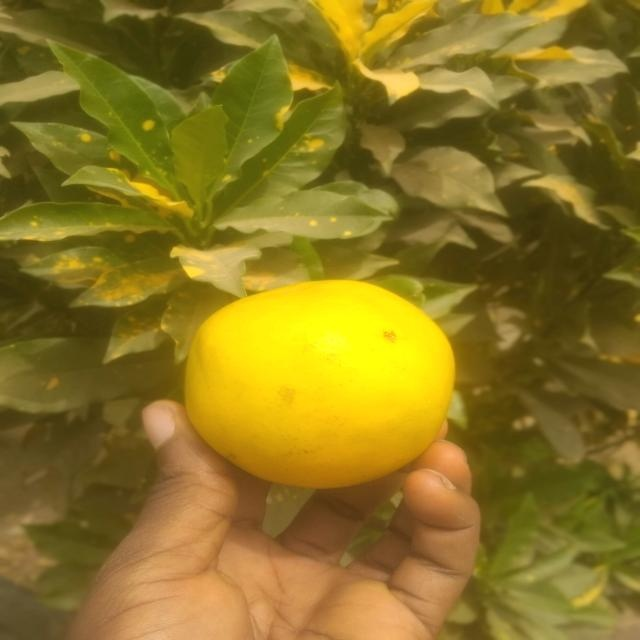agrume: (180, 279, 457, 485)
